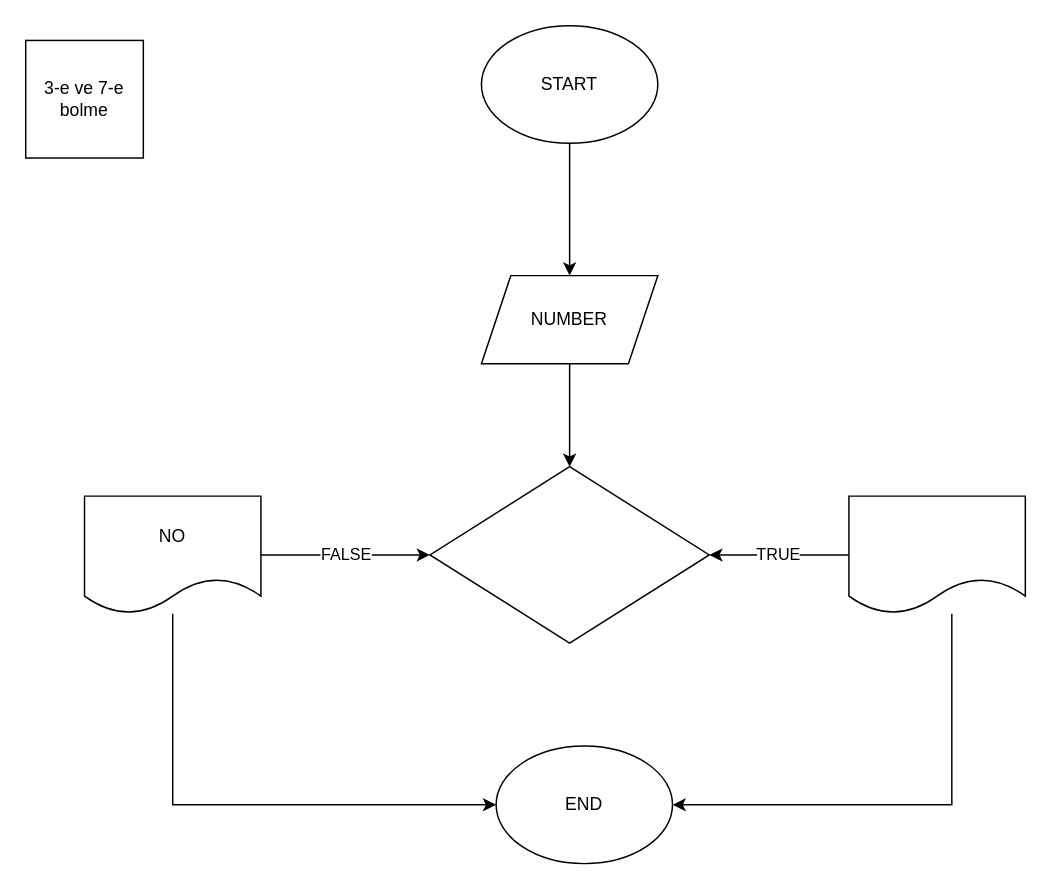
Image size: 1051x889. Some labels were removed from this diagram. Here are the shapes that lost their labels. From the top down, the centre of each, then its label:
the point at 569,554: NUMBER % 3 == 0 && NUMBER %7 == 0
the point at 936,554: YES
